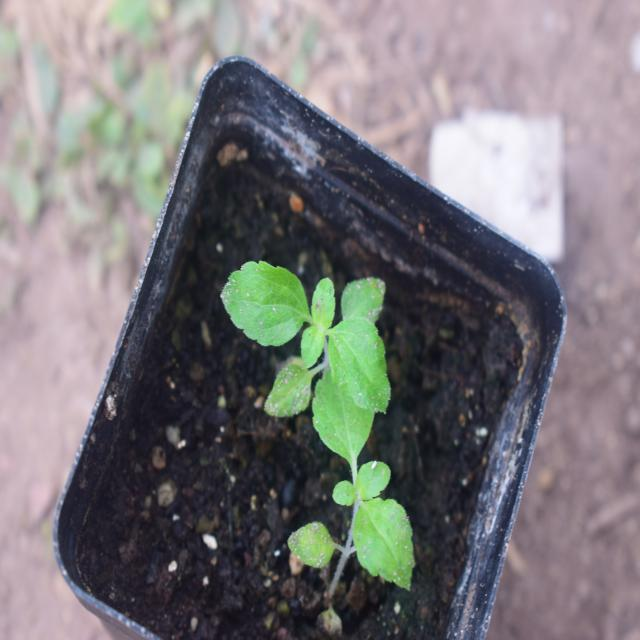billygoat_weed: (217, 263, 405, 434)
